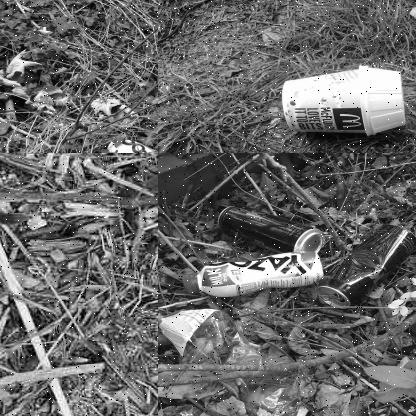metal: (318, 227, 415, 307), (215, 204, 326, 255), (92, 136, 157, 152)
plastic: (0, 177, 98, 415), (158, 305, 318, 415), (278, 64, 410, 137), (186, 252, 324, 294)
